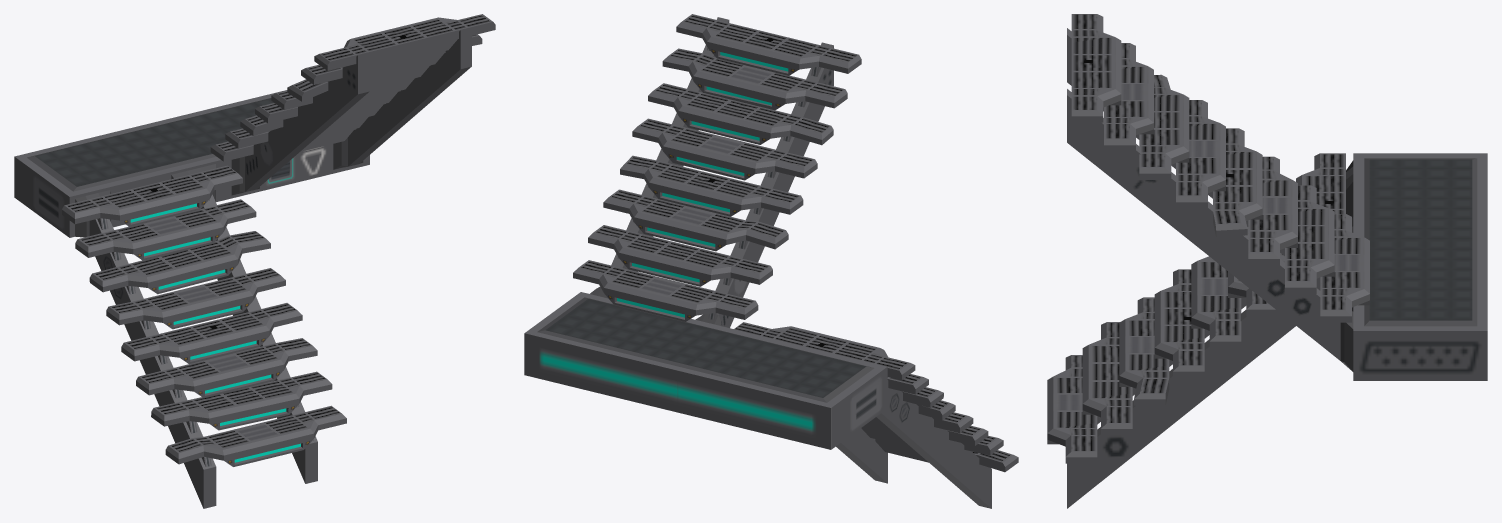
The model's file is SM_Bld_Stairs_05.fbx.
The picture shows the model from 3 angles, left to right: view 1: azimuth 30°, elevation 25°; view 2: azimuth 150°, elevation 25°; view 3: azimuth 270°, elevation 25°; orthographic projection. The views are drawn at different scales.
Parts seen in each view (by area): view 1: SM_Bld_Stairs_05; view 2: SM_Bld_Stairs_05; view 3: SM_Bld_Stairs_05.
Part boxes in pixels (bbox=[...]): SM_Bld_Stairs_05: bbox=[14, 14, 495, 508]; SM_Bld_Stairs_05: bbox=[524, 14, 1018, 508]; SM_Bld_Stairs_05: bbox=[1047, 14, 1487, 508].
Bounding box in the file's own units: 267 × 331 × 262.
